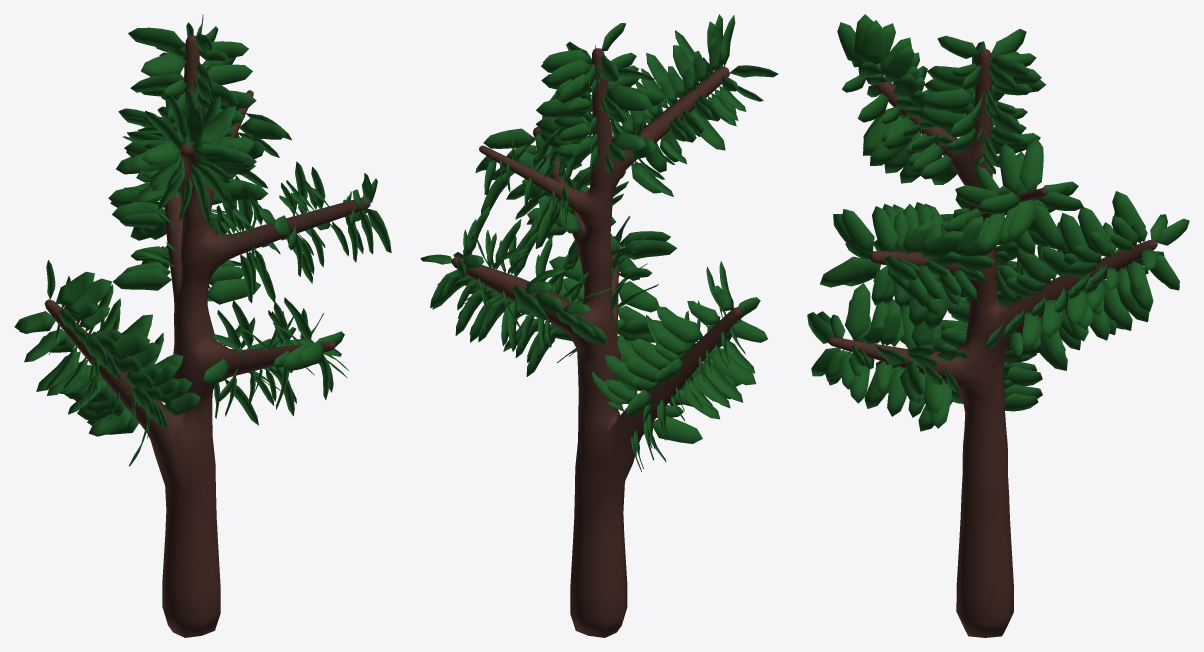
Rendered from Planta_Sin_Cafe.fbx.
The picture shows the model from 3 angles, left to right: view 1: azimuth 30°, elevation 25°; view 2: azimuth 150°, elevation 25°; view 3: azimuth 270°, elevation 25°; orthographic projection. The views are drawn at different scales.
Parts seen in each view (by area): view 1: PlantaDeCafe.002, PlantaDeCafe.002|hoja.001|Dupli|282, PlantaDeCafe.002|hoja.001|Dupli|50, PlantaDeCafe.002|hoja.001|Dupli|276, PlantaDeCafe.002|hoja.001|Dupli|8, PlantaDeCafe.002|hoja.001|Dupli|101, PlantaDeCafe.002|hoja.001|Dupli|261, PlantaDeCafe.002|hoja.001|Dupli|16, PlantaDeCafe.002|hoja.001|Dupli|364, PlantaDeCafe.002|hoja.001|Dupli|73, PlantaDeCafe.002|hoja.001|Dupli|299, PlantaDeCafe.002|hoja.001|Dupli|263 (+5 smaller); view 2: PlantaDeCafe.002, PlantaDeCafe.002|hoja.001|Dupli|298, PlantaDeCafe.002|hoja.001|Dupli|418, PlantaDeCafe.002|hoja.001|Dupli|5, PlantaDeCafe.002|hoja.001|Dupli|88, PlantaDeCafe.002|hoja.001|Dupli|77, PlantaDeCafe.002|hoja.001|Dupli|199, PlantaDeCafe.002|hoja.001|Dupli|400, PlantaDeCafe.002|hoja.001|Dupli|45, PlantaDeCafe.002|hoja.001|Dupli|20, PlantaDeCafe.002|hoja.001|Dupli|72, PlantaDeCafe.002|hoja.001|Dupli|78 (+5 smaller); view 3: PlantaDeCafe.002, PlantaDeCafe.002|hoja.001|Dupli|410, PlantaDeCafe.002|hoja.001|Dupli|365, PlantaDeCafe.002|hoja.001|Dupli|201, PlantaDeCafe.002|hoja.001|Dupli|9, PlantaDeCafe.002|hoja.001|Dupli|362, PlantaDeCafe.002|hoja.001|Dupli|357, PlantaDeCafe.002|hoja.001|Dupli|202, PlantaDeCafe.002|hoja.001|Dupli|178, PlantaDeCafe.002|hoja.001|Dupli|367, PlantaDeCafe.002|hoja.001|Dupli|264, PlantaDeCafe.002|hoja.001|Dupli|190 (+19 smaller).
Part boxes in pixels (x1,y1,x2,y2): PlantaDeCafe.002: [44, 35, 370, 637]; PlantaDeCafe.002|hoja.001|Dupli|282: [113, 268, 171, 290]; PlantaDeCafe.002|hoja.001|Dupli|50: [128, 27, 185, 51]; PlantaDeCafe.002|hoja.001|Dupli|276: [207, 278, 260, 304]; PlantaDeCafe.002|hoja.001|Dupli|8: [141, 52, 186, 76]; PlantaDeCafe.002|hoja.001|Dupli|101: [55, 271, 94, 305]; PlantaDeCafe.002|hoja.001|Dupli|261: [192, 106, 236, 146]; PlantaDeCafe.002|hoja.001|Dupli|16: [207, 64, 252, 85]; PlantaDeCafe.002|hoja.001|Dupli|364: [239, 118, 286, 139]; PlantaDeCafe.002|hoja.001|Dupli|73: [108, 334, 149, 360]; PlantaDeCafe.002|hoja.001|Dupli|299: [88, 409, 131, 436]; PlantaDeCafe.002|hoja.001|Dupli|263: [141, 142, 181, 164]; PlantaDeCafe.002: [451, 48, 741, 637]; PlantaDeCafe.002|hoja.001|Dupli|298: [652, 415, 702, 443]; PlantaDeCafe.002|hoja.001|Dupli|418: [620, 239, 676, 259]; PlantaDeCafe.002|hoja.001|Dupli|5: [606, 84, 651, 110]; PlantaDeCafe.002|hoja.001|Dupli|88: [660, 313, 703, 343]; PlantaDeCafe.002|hoja.001|Dupli|77: [710, 351, 756, 385]; PlantaDeCafe.002|hoja.001|Dupli|199: [483, 128, 533, 148]; PlantaDeCafe.002|hoja.001|Dupli|400: [619, 281, 659, 312]; PlantaDeCafe.002|hoja.001|Dupli|45: [547, 59, 591, 85]; PlantaDeCafe.002|hoja.001|Dupli|20: [536, 97, 592, 117]; PlantaDeCafe.002|hoja.001|Dupli|72: [630, 338, 671, 370]; PlantaDeCafe.002|hoja.001|Dupli|78: [703, 360, 743, 402]; PlantaDeCafe.002: [828, 49, 1157, 637]; PlantaDeCafe.002|hoja.001|Dupli|410: [845, 283, 870, 340]; PlantaDeCafe.002|hoja.001|Dupli|365: [1019, 138, 1043, 191]; PlantaDeCafe.002|hoja.001|Dupli|201: [820, 256, 870, 287]; PlantaDeCafe.002|hoja.001|Dupli|9: [919, 88, 974, 110]; PlantaDeCafe.002|hoja.001|Dupli|362: [1030, 203, 1063, 250]; PlantaDeCafe.002|hoja.001|Dupli|357: [999, 143, 1022, 194]; PlantaDeCafe.002|hoja.001|Dupli|202: [841, 209, 874, 251]; PlantaDeCafe.002|hoja.001|Dupli|178: [921, 230, 963, 260]; PlantaDeCafe.002|hoja.001|Dupli|367: [1007, 199, 1036, 241]; PlantaDeCafe.002|hoja.001|Dupli|264: [858, 20, 882, 62]; PlantaDeCafe.002|hoja.001|Dupli|190: [872, 206, 898, 251].
Bounding box in the file's own units: 187 × 200 × 342.
